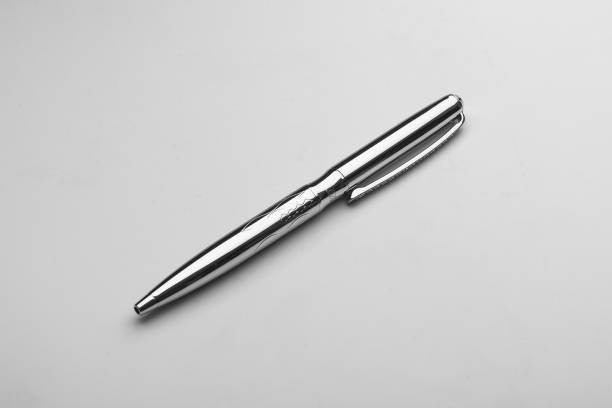pen: (129, 86, 470, 322)
